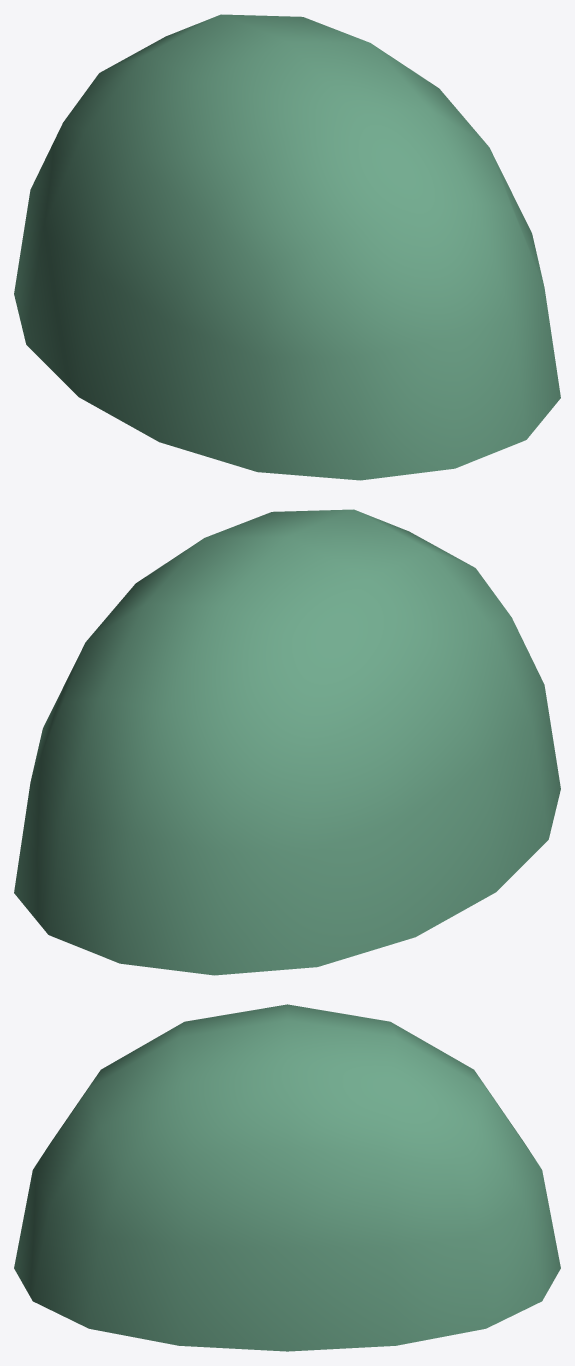
File: bush-summer.gltf
3 views of the same model, one above another, from view 1: azimuth 30°, elevation 25°; view 2: azimuth 150°, elevation 25°; view 3: azimuth 270°, elevation 25° (orthographic). The views are drawn at different scales.
Visible parts, largest first — view 1: buisson; view 2: buisson; view 3: buisson.
Part boxes in pixels (<box>): buisson: <box>14,14,560,480</box>; buisson: <box>14,509,560,975</box>; buisson: <box>14,1004,560,1351</box>.
Bounding box in the file's own units: 0.6461 × 0.4484 × 0.8967.
